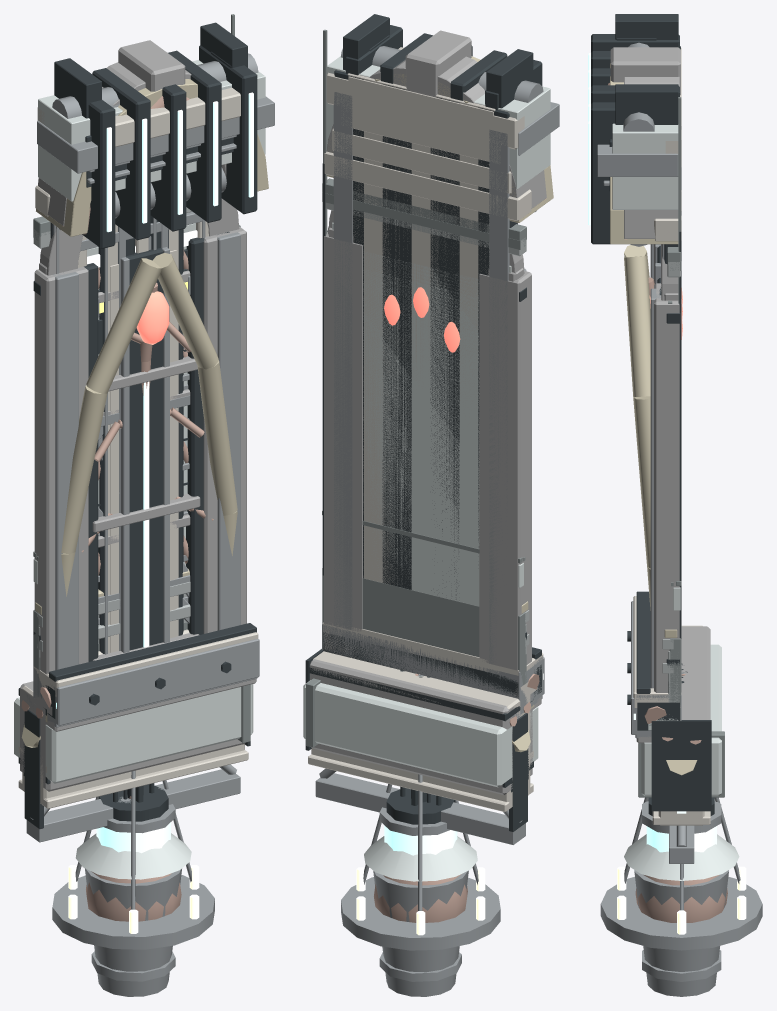
File: kit.glb
3 renders of one model, left to right at view 1: azimuth 30°, elevation 25°; view 2: azimuth 150°, elevation 25°; view 3: azimuth 270°, elevation 25°, orthographic.
Visible parts, largest first — view 1: catacombs_upper__env.basalt, sanctum_upper__env.dark, sanctum_crown__env.dark, pit_upper__env.alloy, gullet_upper__env.bone, Service duct, Ring beam, catacombs_hang__env.alloy, foundry_upper__env.alloy, foundry_hang__env.alloy, foundry_span__env.alloy, spire_upper__env.limestone (+34 smaller); view 2: catacombs_upper__env.basalt, Upper ceramic panel, sanctum_relief__env.dark, Ceramic cabinet, spire_relief__env.limestone, pit_relief__env.alloy, spire_crown__env.limestone, Service duct, gullet_trim__env.trimMetal, catacombs_hang__env.alloy, spire_span__env.limestone, Transverse rib (+29 smaller); view 3: catacombs_upper__env.basalt, catacombs_hang__env.alloy, gullet_upper__env.bone, Voussoir joint, sanctum_crown__env.dark, foundry_hang__env.alloy, pit_crown__env.dark, Air return casing, catacombs_crown__env.basalt, Exam lamp head, Transverse rib, Service duct (+22 smaller).
Boxes of the visible parts, bbox=[...] form: catacombs_upper__env.basalt: bbox=[34, 226, 246, 673]; sanctum_upper__env.dark: bbox=[84, 232, 229, 661]; sanctum_crown__env.dark: bbox=[82, 45, 257, 248]; pit_upper__env.alloy: bbox=[53, 232, 240, 670]; gullet_upper__env.bone: bbox=[61, 253, 237, 596]; Service duct: bbox=[14, 684, 253, 783]; Ring beam: bbox=[51, 638, 259, 725]; catacombs_hang__env.alloy: bbox=[52, 770, 214, 949]; foundry_upper__env.alloy: bbox=[120, 247, 169, 652]; foundry_hang__env.alloy: bbox=[85, 868, 181, 996]; foundry_span__env.alloy: bbox=[26, 694, 240, 842]; spire_upper__env.limestone: bbox=[110, 250, 176, 652]; catacombs_upper__env.basalt: bbox=[324, 232, 531, 695]; Upper ceramic panel: bbox=[363, 251, 479, 606]; sanctum_relief__env.dark: bbox=[334, 70, 517, 599]; Ceramic cabinet: bbox=[363, 269, 479, 537]; spire_relief__env.limestone: bbox=[326, 72, 524, 663]; pit_relief__env.alloy: bbox=[333, 92, 517, 663]; spire_crown__env.limestone: bbox=[324, 47, 531, 221]; Service duct: bbox=[303, 680, 538, 787]; gullet_trim__env.trimMetal: bbox=[322, 178, 526, 684]; catacombs_hang__env.alloy: bbox=[341, 674, 500, 950]; spire_span__env.limestone: bbox=[308, 651, 533, 811]; Transverse rib: bbox=[310, 659, 532, 795]; catacombs_upper__env.basalt: bbox=[654, 244, 681, 692]; catacombs_hang__env.alloy: bbox=[600, 672, 762, 950]; gullet_upper__env.bone: bbox=[624, 245, 650, 610]; Voussoir joint: bbox=[651, 720, 711, 811]; sanctum_crown__env.dark: bbox=[591, 34, 679, 244]; foundry_hang__env.alloy: bbox=[634, 870, 728, 996]; pit_crown__env.dark: bbox=[615, 14, 678, 124]; Air return casing: bbox=[612, 123, 678, 209]; catacombs_crown__env.basalt: bbox=[610, 47, 680, 238]; Exam lamp head: bbox=[624, 834, 739, 880]; Transverse rib: bbox=[681, 626, 710, 719]; Service duct: bbox=[641, 644, 721, 796].
Bounding box in the file's own units: 2.13 × 8.9 × 1.51.
